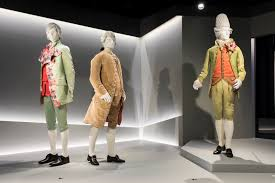person-like: (190, 10, 248, 160), (32, 21, 78, 168), (81, 30, 130, 167)
